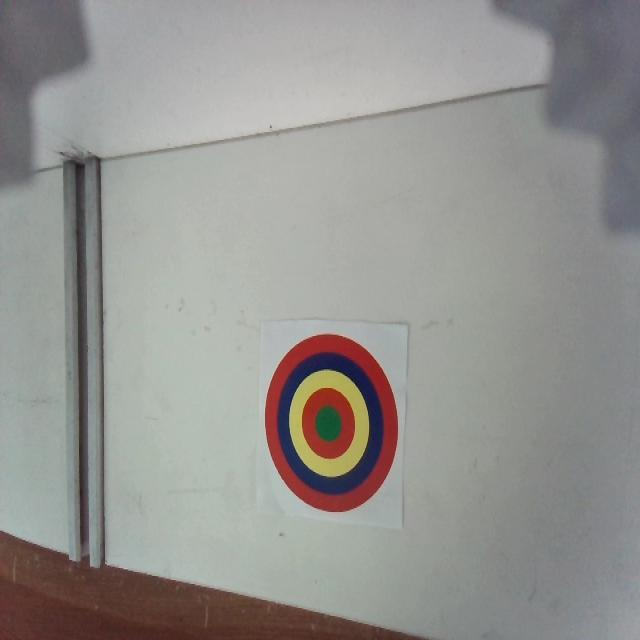cogn: (265, 332, 400, 514)
